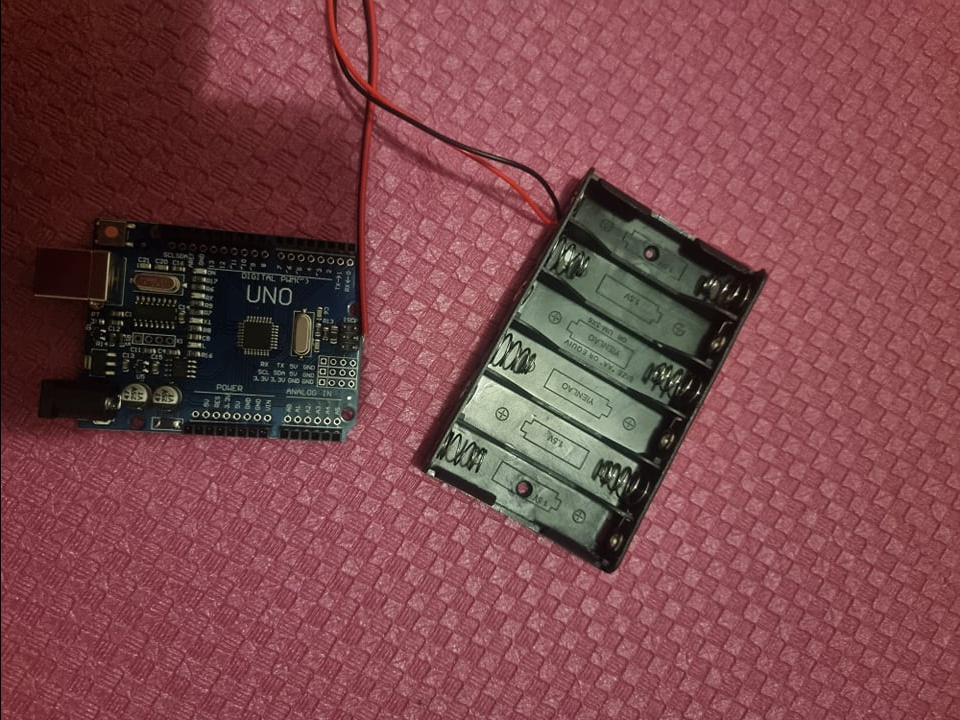BATTERY BOX: (418, 171, 770, 574)
UNO R3: (18, 219, 364, 443)
